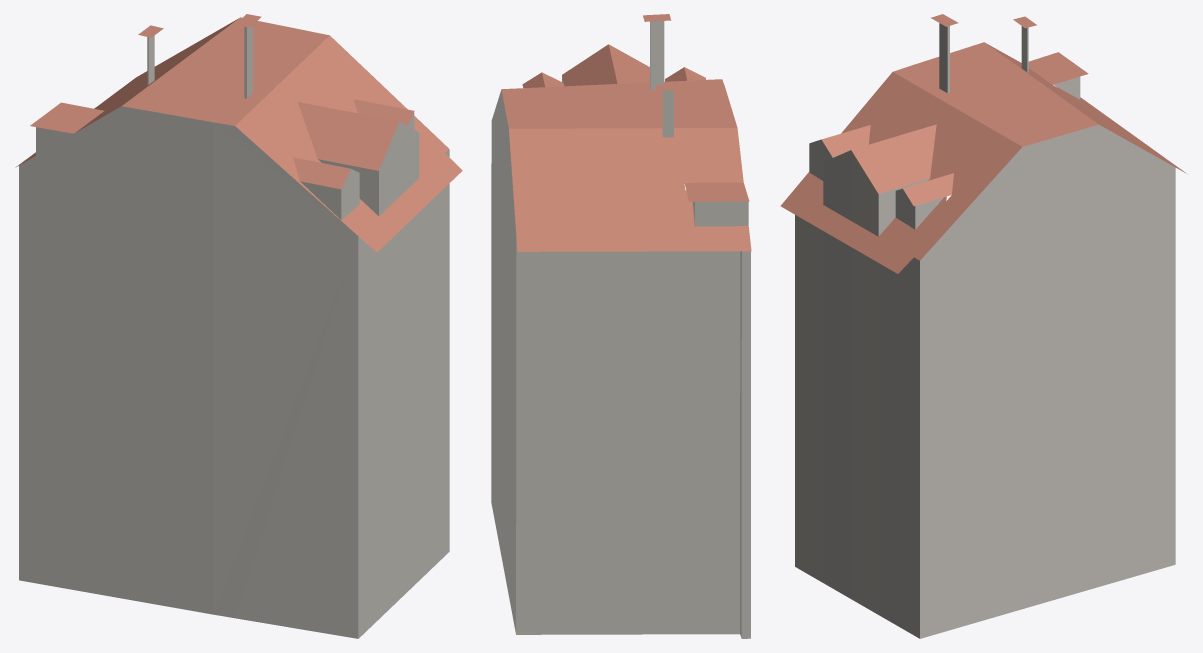
3 views of the same model, side by side, from view 1: azimuth 30°, elevation 25°; view 2: azimuth 150°, elevation 25°; view 3: azimuth 270°, elevation 25° (orthographic). The views are drawn at different scales.
Parts seen in each view (by area): view 1: swisstopo:swissbuildings3d:bd0f29ab-3e3f-4bd4-86c3-3abedef24; view 2: swisstopo:swissbuildings3d:bd0f29ab-3e3f-4bd4-86c3-3abedef24; view 3: swisstopo:swissbuildings3d:bd0f29ab-3e3f-4bd4-86c3-3abedef24.
Part boxes in pixels (box(x1,y1,x2,y2)): swisstopo:swissbuildings3d:bd0f29ab-3e3f-4bd4-86c3-3abedef24: box(15, 14, 462, 638); swisstopo:swissbuildings3d:bd0f29ab-3e3f-4bd4-86c3-3abedef24: box(491, 14, 751, 638); swisstopo:swissbuildings3d:bd0f29ab-3e3f-4bd4-86c3-3abedef24: box(780, 14, 1186, 638).
Bounding box in the file's own units: 15.21 × 23.12 × 16.07.
